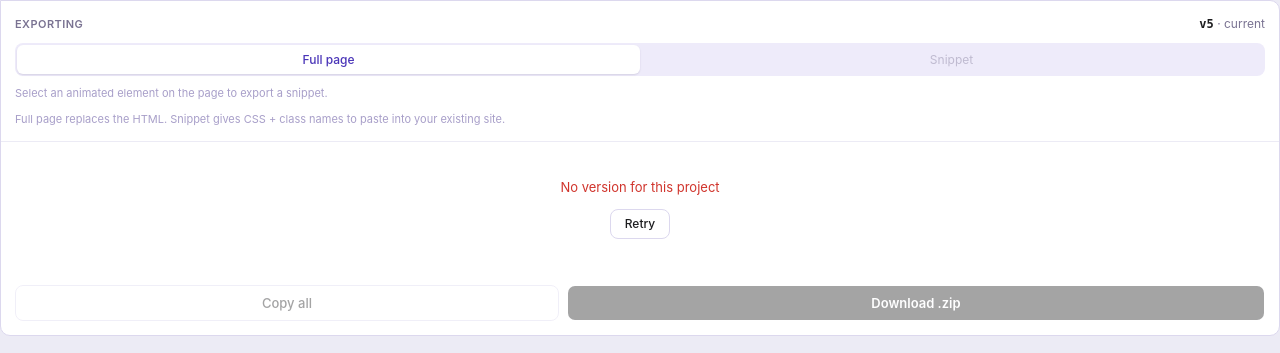
Test: ExportTab › shows what the API said went wrong, and retries on demand
Expected: the text "No version for this project" is shown, [560,178,720,197]
What coordinates should you click on to do the following:
click the button "Retry"
I would click on:
 (640, 224)
Its box is [610,209,670,239].
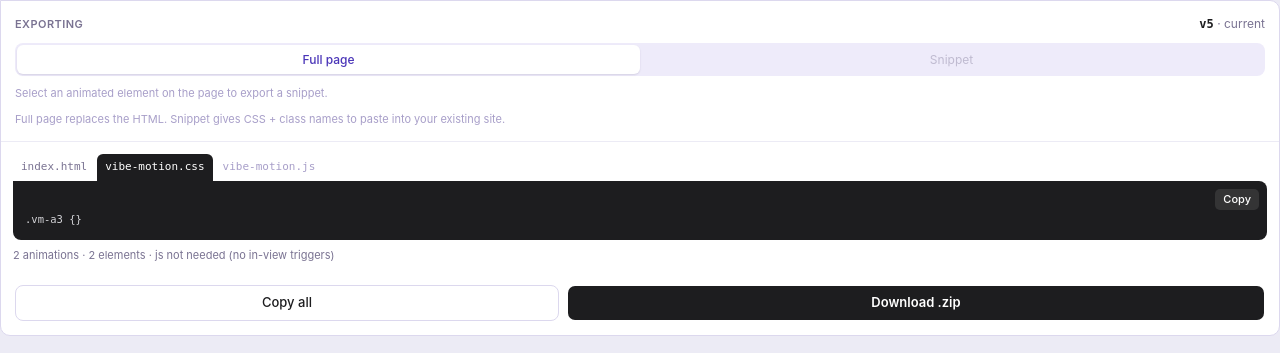
Result: the tab "vibe-motion.css" is shown at [97,154,212,181]
